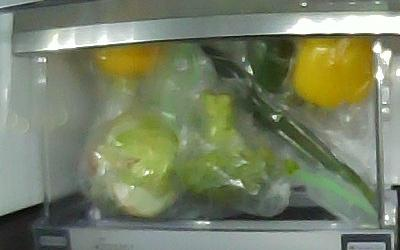broccoli_vinyl: (181, 92, 279, 201)
cucumber_vinyl: (199, 46, 378, 213)
grapefruit_vinyl: (90, 41, 171, 79)
lettuce_vinyl: (85, 111, 180, 219)
paprika_vinyl: (287, 36, 374, 110), (247, 38, 296, 93)
